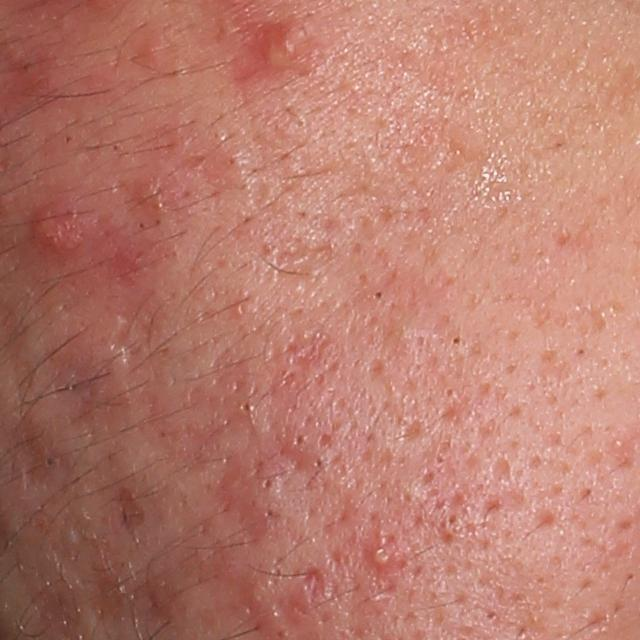atrophic_scar: (395, 413, 432, 448), (302, 564, 328, 606)
comedo: (237, 398, 259, 417), (291, 431, 308, 449), (441, 383, 457, 400), (312, 456, 327, 471), (369, 288, 384, 301), (449, 333, 463, 346)
papule: (218, 456, 292, 525), (21, 196, 89, 269), (246, 15, 317, 77)
pustule: (366, 541, 401, 568)
